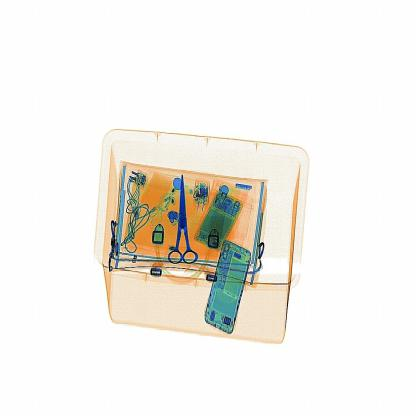gun: (163, 167, 199, 277)
